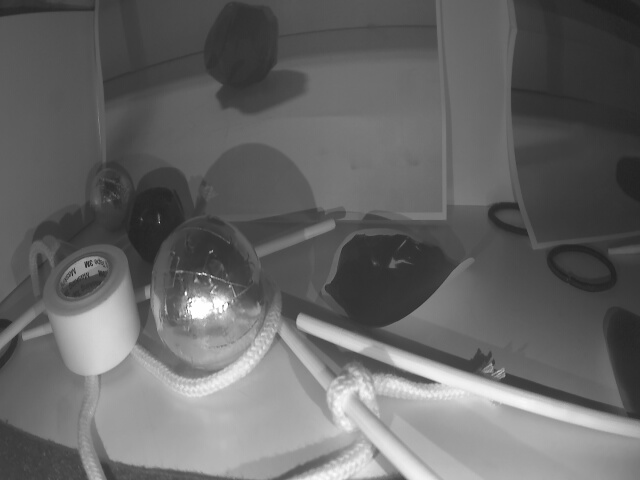Dead: (129, 190, 186, 263)
Live: (146, 217, 269, 375), (90, 169, 135, 229)
